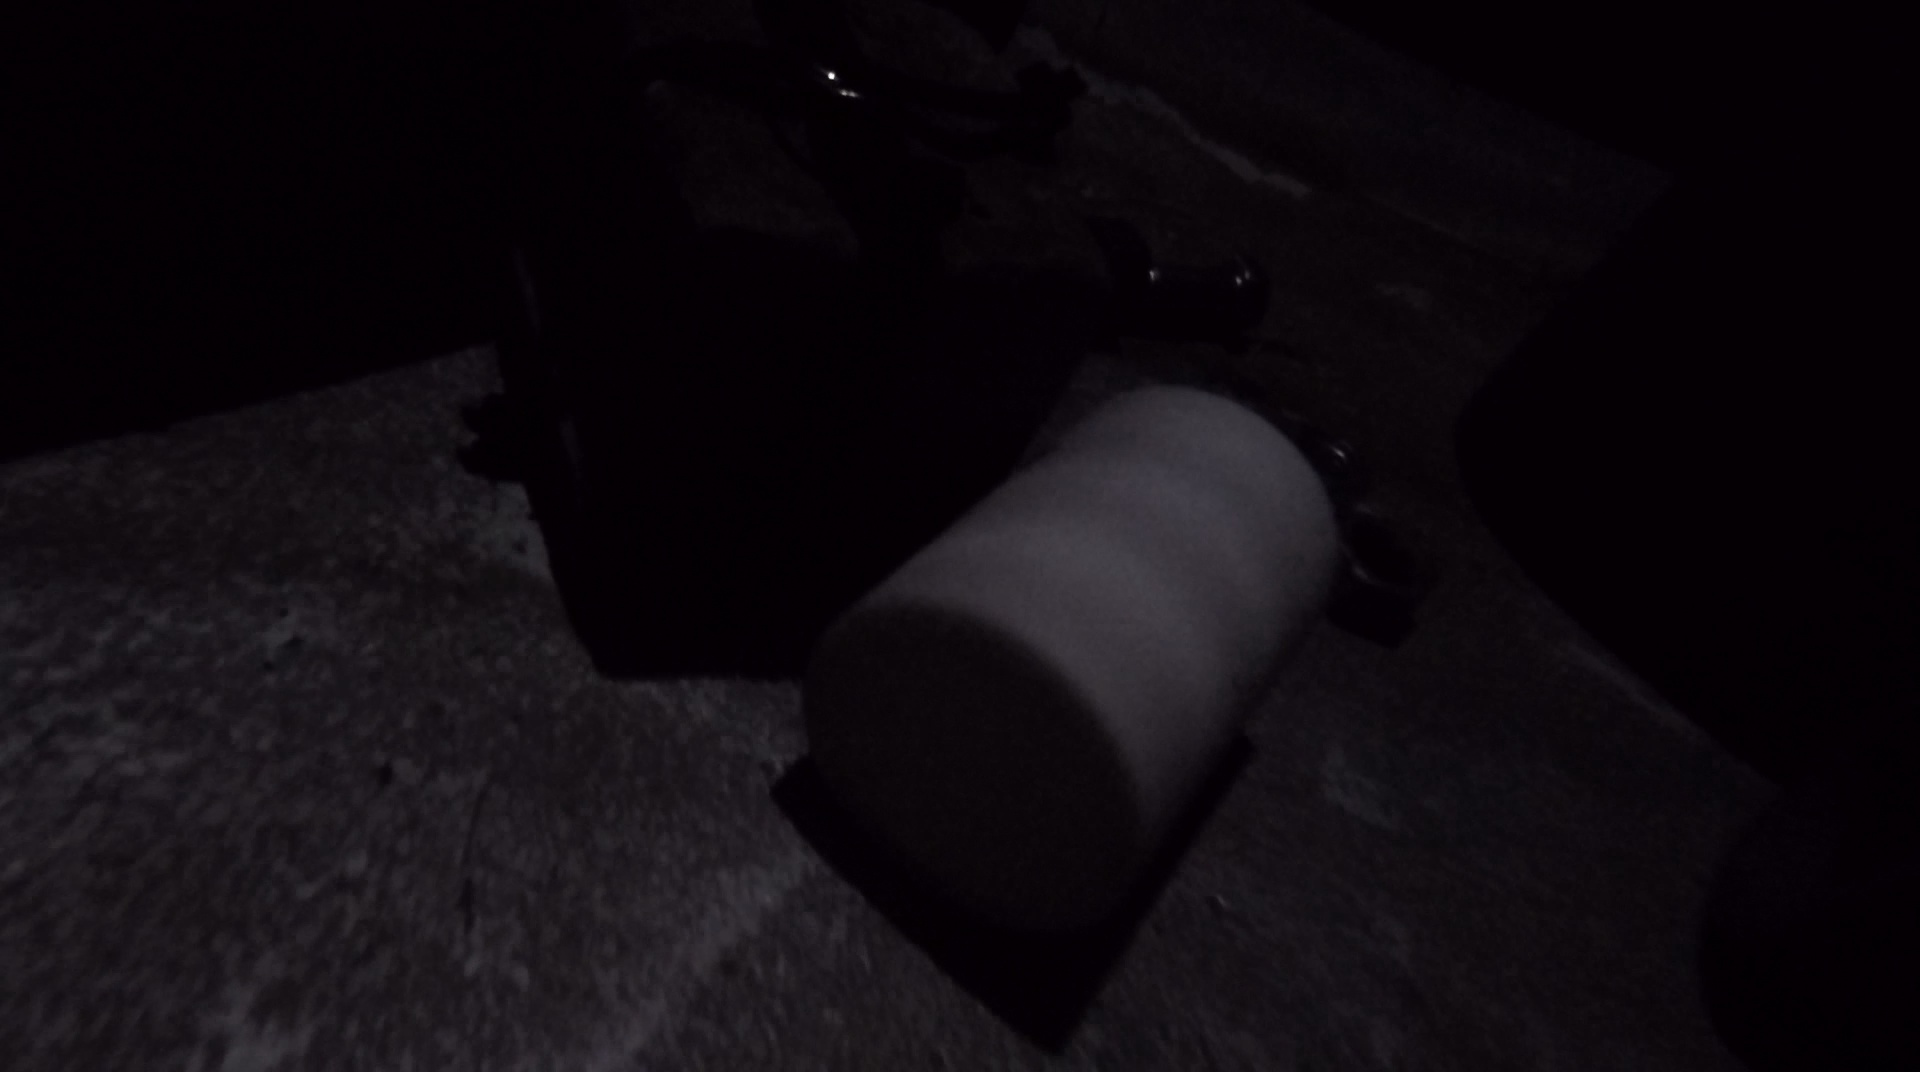bolt: (1108, 252, 1269, 310)
led_block: (506, 53, 1095, 676)
nut: (1325, 502, 1436, 636)
pipe: (800, 378, 1342, 923)
